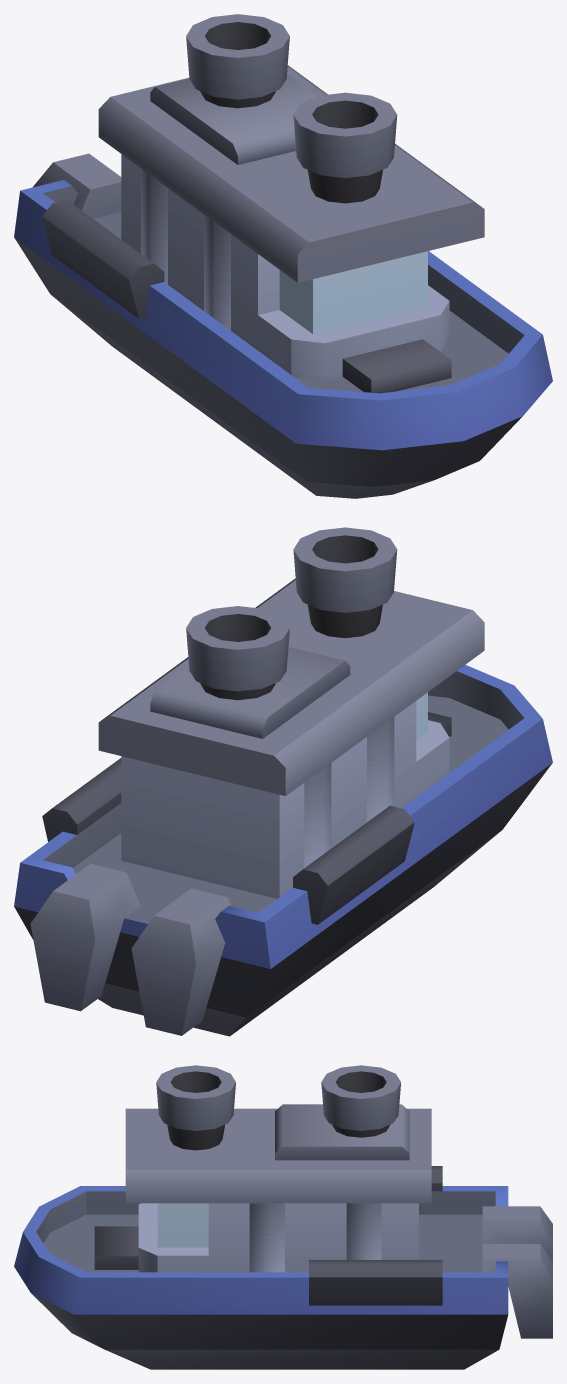
The model's file is boat-tow-a.glb.
3 renders of one model, top to bottom at view 1: azimuth 30°, elevation 25°; view 2: azimuth 150°, elevation 25°; view 3: azimuth 270°, elevation 25°, orthographic. The views are drawn at different scales.
Parts seen in each view (by area): view 1: boat-tow-a; view 2: boat-tow-a; view 3: boat-tow-a.
Boxes of the visible parts, x1,y1,x2,y2 form: boat-tow-a: [14, 14, 552, 498]; boat-tow-a: [14, 527, 552, 1036]; boat-tow-a: [14, 1065, 552, 1369].
Size of the model in its own units: 2.88 by 3.33 by 6.12.
1 material, 1 textured.
